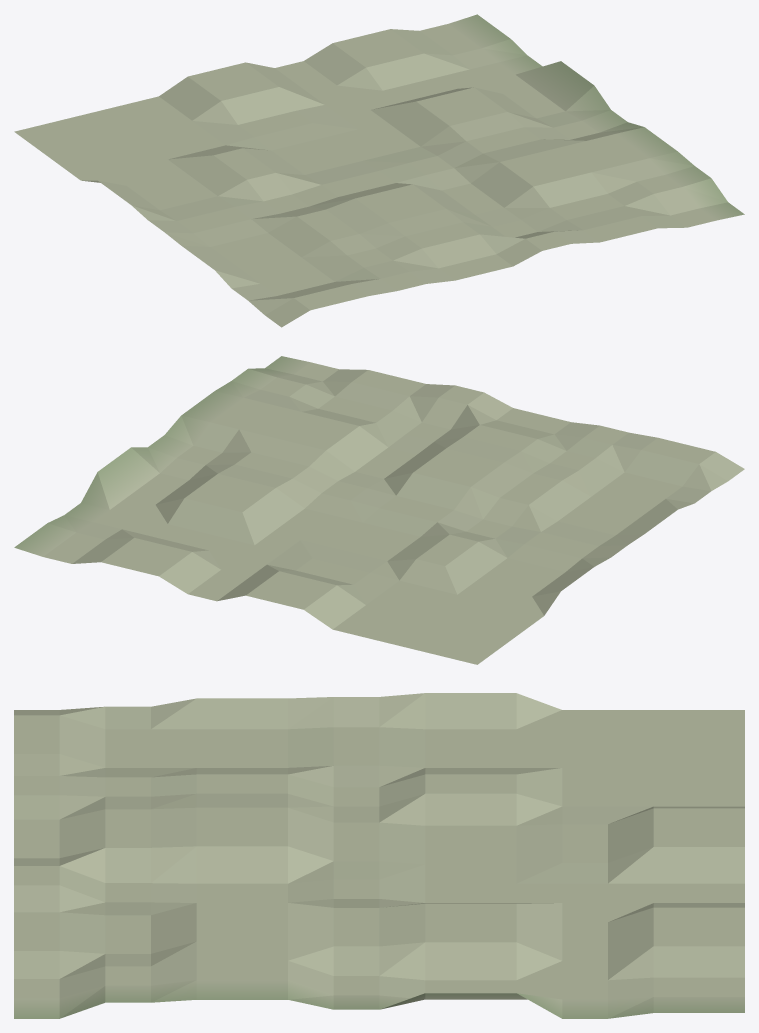
The picture shows the model from 3 angles, top to bottom: view 1: azimuth 30°, elevation 25°; view 2: azimuth 150°, elevation 25°; view 3: azimuth 270°, elevation 25°; orthographic projection. The views are drawn at different scales.
Size of the model in its own units: 32 by 1.24 by 32.
